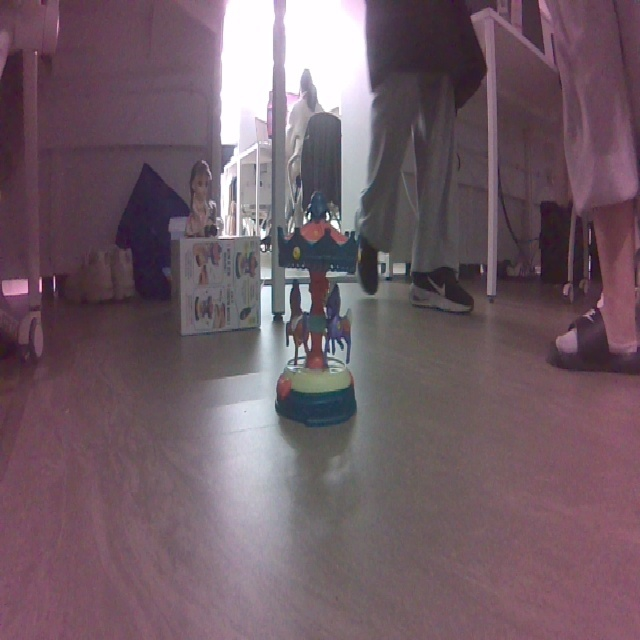장애물: (266, 188, 365, 430)
